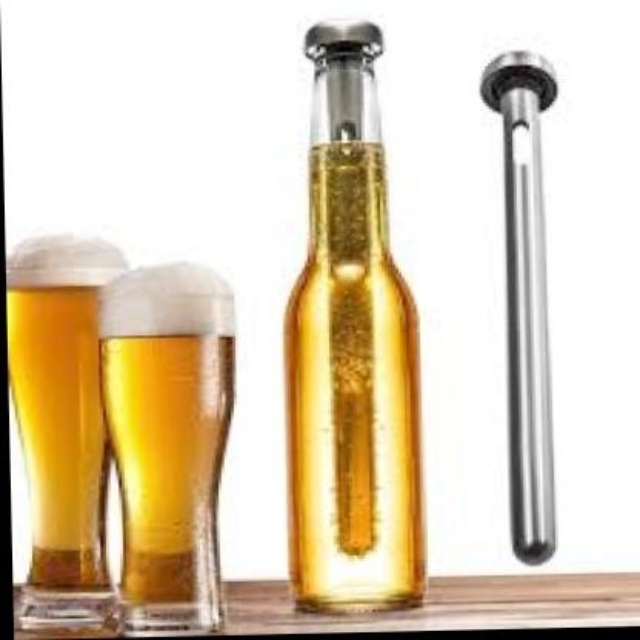trash: (286, 23, 423, 611)
